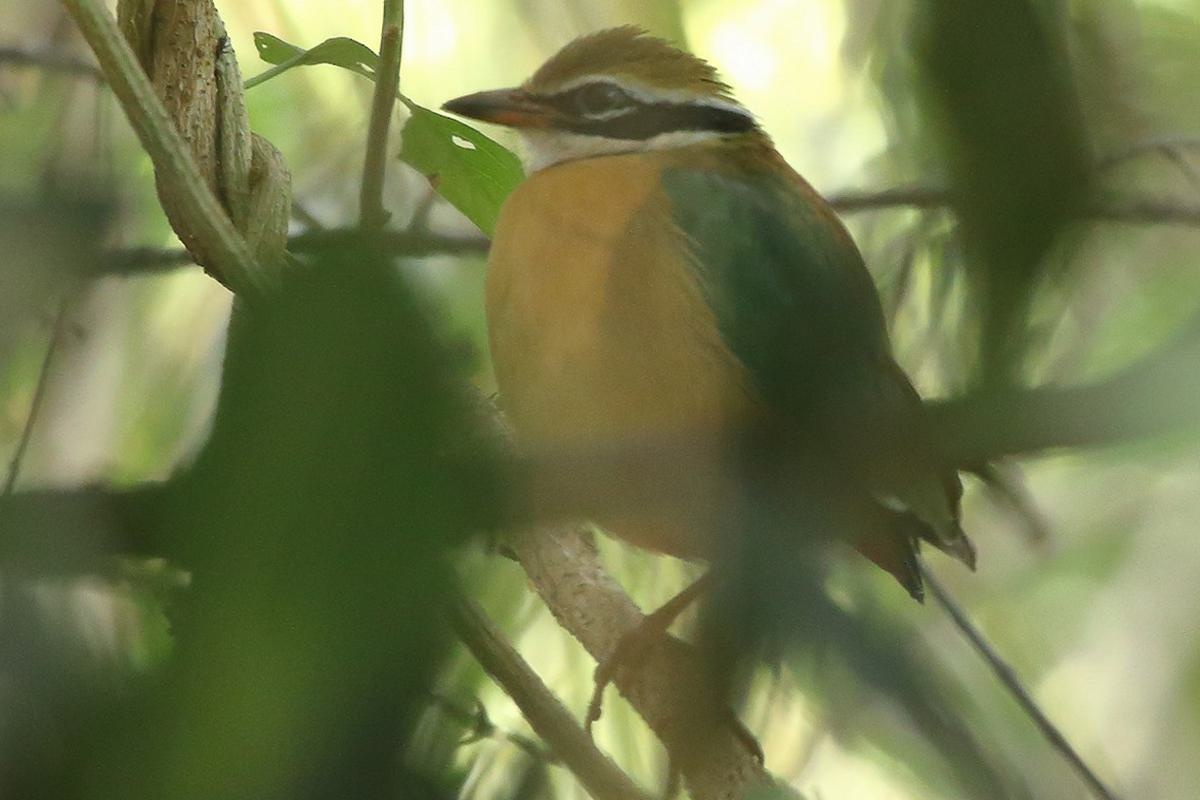pitta: (467, 26, 958, 624)
